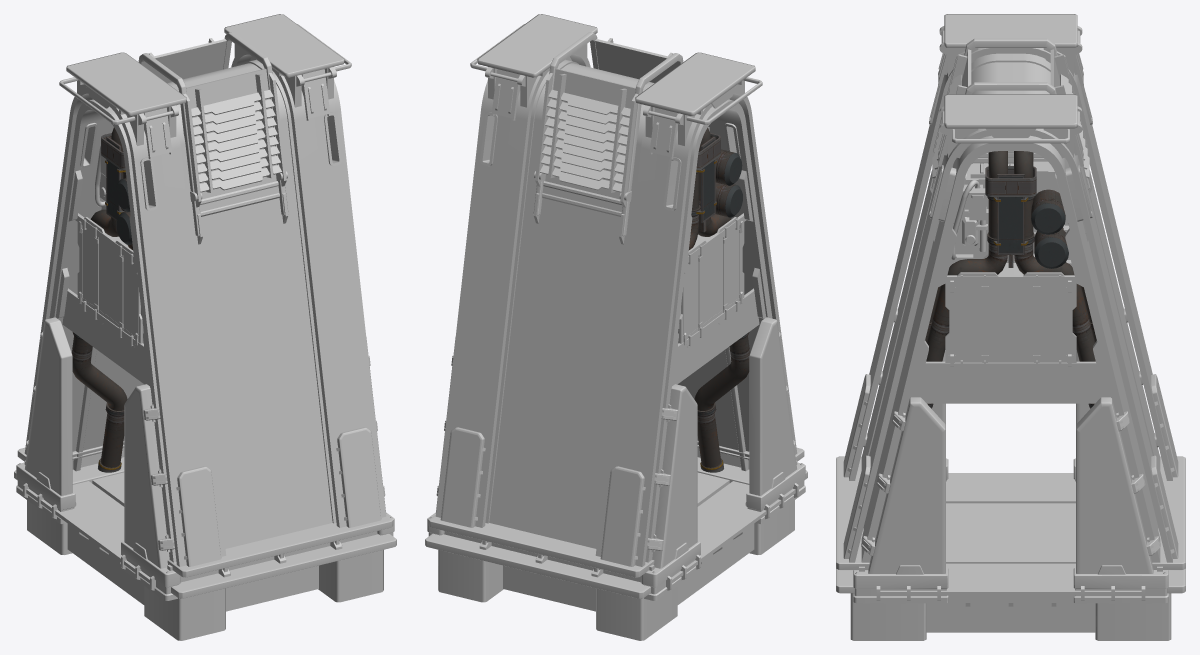
File: Radiator_Big.fbx
3 views of the same model, side by side, from view 1: azimuth 30°, elevation 25°; view 2: azimuth 150°, elevation 25°; view 3: azimuth 270°, elevation 25° (orthographic). The views are drawn at different scales.
Visible parts, largest first — view 1: Element3, Element4, Element5, Element2, Element1; view 2: Element3, Element4, Element5, Element2, Element1; view 3: Element4, Element3, Element5, Element2, Element1.
Part boxes in pixels (x1=…): Element3: x1=14, y1=49, x2=396, y2=598; Element4: x1=16, y1=14, x2=394, y2=640; Element5: x1=18, y1=32, x2=392, y2=573; Element2: x1=71, y1=127, x2=133, y2=472; Element1: x1=82, y1=228, x2=135, y2=335; Element3: x1=425, y1=49, x2=807, y2=598; Element4: x1=427, y1=14, x2=805, y2=640; Element5: x1=429, y1=32, x2=803, y2=573; Element2: x1=688, y1=127, x2=750, y2=472; Element1: x1=686, y1=228, x2=739, y2=335; Element4: x1=843, y1=14, x2=1178, y2=640; Element3: x1=836, y1=48, x2=1185, y2=595; Element5: x1=855, y1=38, x2=1166, y2=574; Element2: x1=925, y1=151, x2=1096, y2=408; Element1: x1=955, y1=286, x2=1066, y2=359.
Bounding box in the file's own units: 606 × 1221 × 734.
